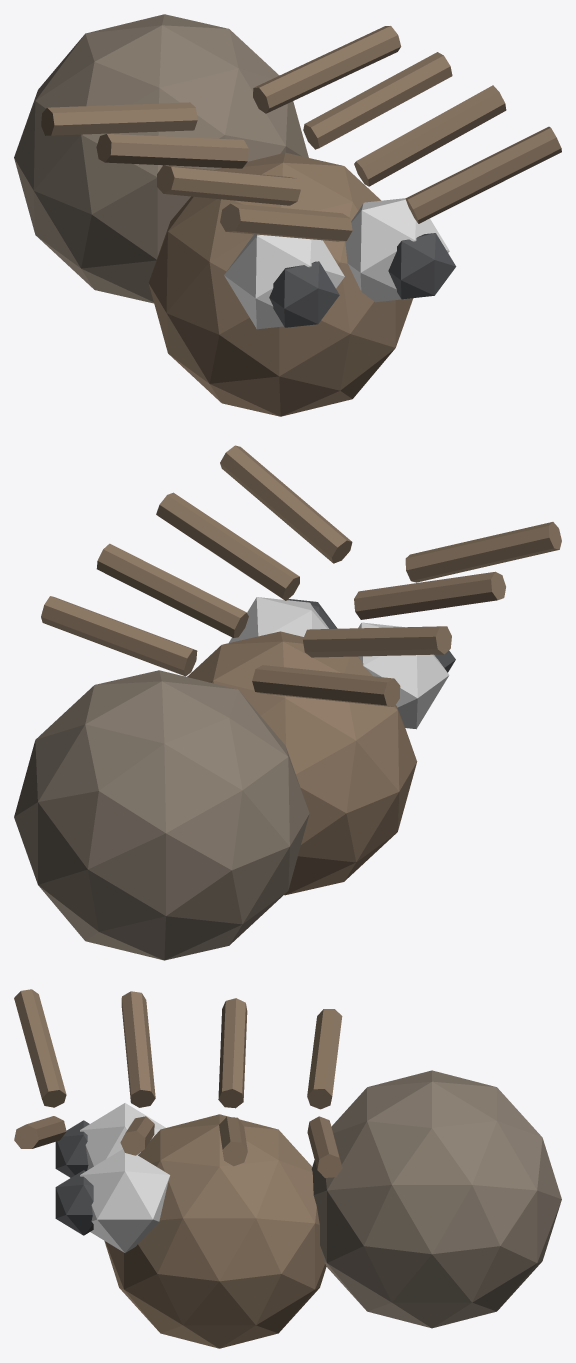
File: plexippus-paykulli.glb
3 views of the same model, one above another, from view 1: azimuth 30°, elevation 25°; view 2: azimuth 150°, elevation 25°; view 3: azimuth 270°, elevation 25° (orthographic). The views are drawn at different scales.
Visible parts, largest first — view 1: abdomen, cephalothorax, eye1, eye-1, leg01, leg11, leg21, leg31, leg3-1, leg2-1, leg1-1, leg0-1 (+2 smaller); view 2: abdomen, cephalothorax, leg21, leg31, leg0-1, leg11, leg01, leg1-1, leg3-1, leg2-1, eye-1, eye1; view 3: abdomen, cephalothorax, eye1, leg0-1, leg1-1, leg2-1, leg3-1, eye-1, pupil1, leg31, pupil-1, leg01 (+2 smaller).
Part boxes in pixels (box(x1,y1,x2,y2)): abdomen: box(14, 14, 308, 303); cephalothorax: box(148, 152, 413, 416); eye1: box(345, 198, 449, 302); eye-1: box(224, 234, 344, 329); leg01: box(405, 126, 561, 223); leg11: box(354, 85, 506, 186); leg21: box(303, 52, 452, 149); leg31: box(253, 26, 401, 113); leg3-1: box(41, 102, 197, 135); leg2-1: box(96, 134, 248, 168); leg1-1: box(157, 165, 300, 205); leg0-1: box(220, 203, 352, 241); abdomen: box(14, 670, 309, 960); cephalothorax: box(187, 631, 417, 895); leg21: box(96, 543, 248, 637); leg31: box(41, 596, 197, 676); leg0-1: box(405, 522, 561, 582); leg11: box(156, 492, 299, 600); leg01: box(220, 445, 352, 563); leg1-1: box(354, 571, 505, 619); leg3-1: box(252, 665, 400, 706); leg2-1: box(303, 626, 451, 657); eye-1: box(358, 622, 449, 729); eye1: box(229, 597, 328, 642); abdomen: box(311, 1070, 561, 1328); cephalothorax: box(104, 1114, 326, 1348); eye1: box(80, 1149, 170, 1252); leg0-1: box(14, 989, 66, 1107); leg1-1: box(121, 991, 155, 1107); leg2-1: box(218, 998, 247, 1108); leg3-1: box(307, 1009, 342, 1109); eye-1: box(80, 1103, 165, 1170); pupil1: box(55, 1170, 93, 1235); leg31: box(307, 1116, 342, 1177); pupil-1: box(55, 1120, 89, 1177); leg01: box(14, 1116, 66, 1148).
Bounding box in the file's own units: 0.2998 × 0.2632 × 0.464.
